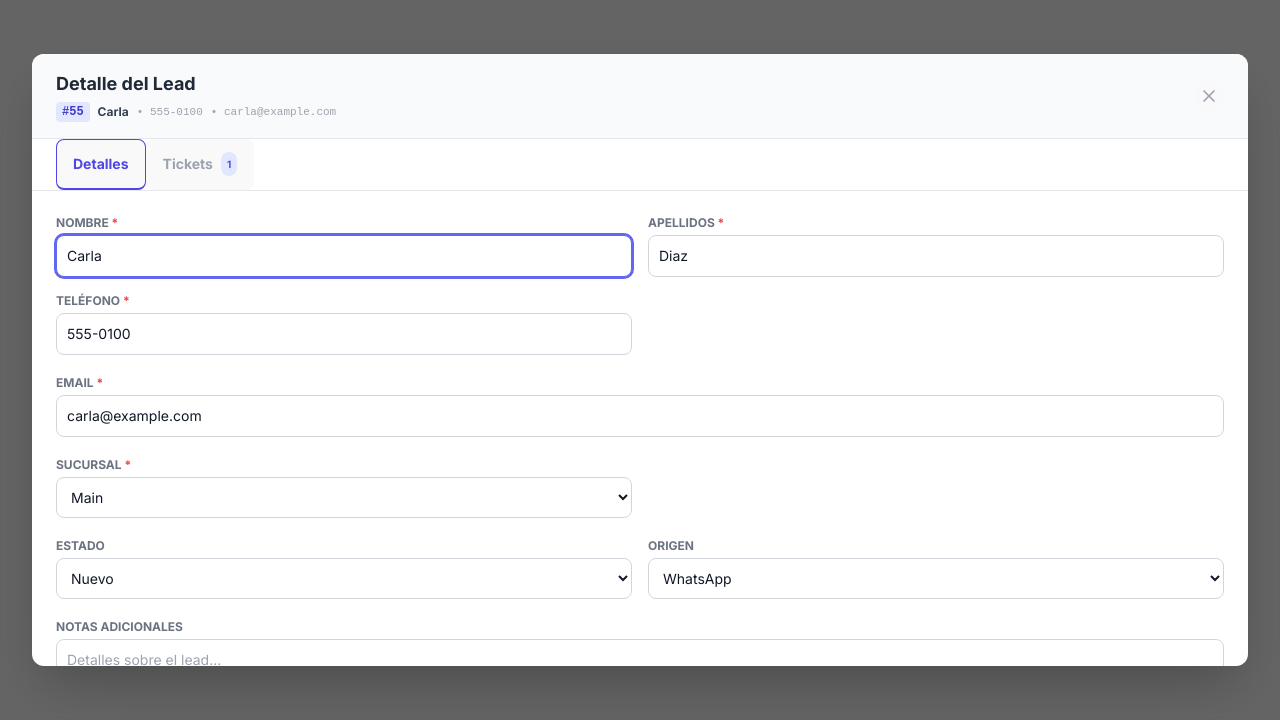
LeadModal — ticket list category display › renders the ticket's own category, sourced from listTickets(), in the lead's ticket list
Click the button "Tickets 1". click: (200, 164)
box: 146,139 -> 254,190
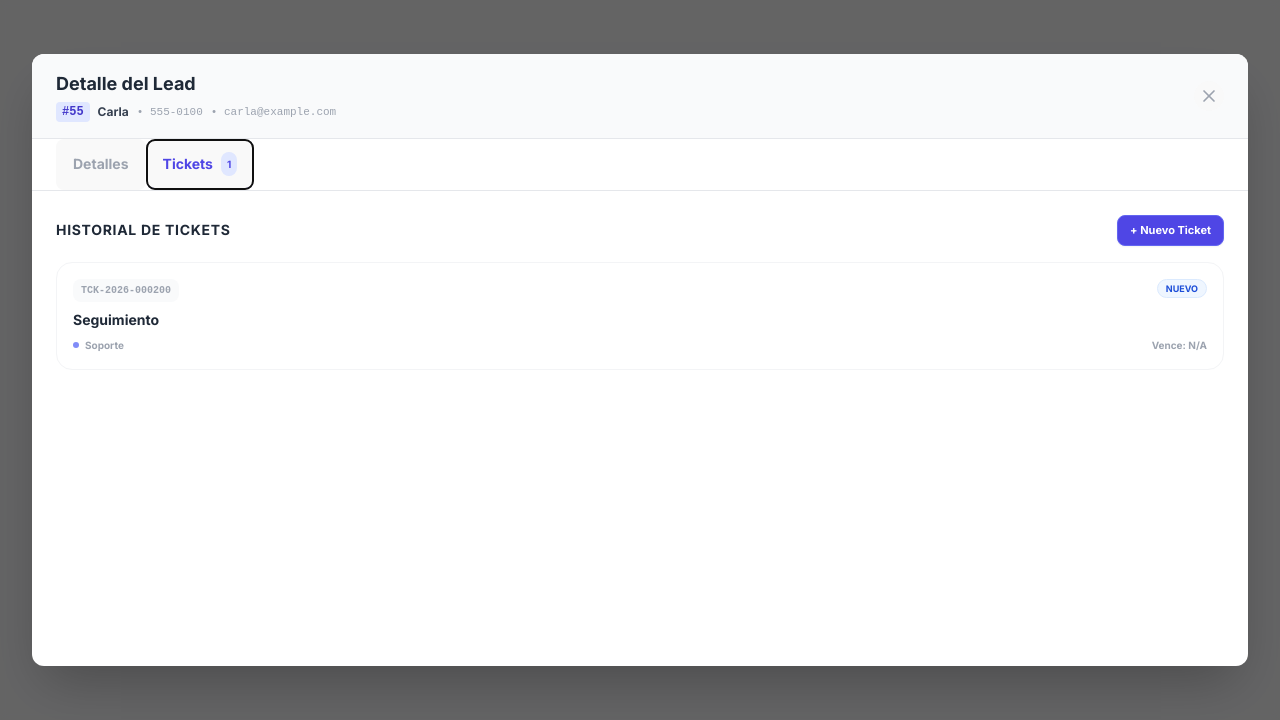
Now the text "TCK-2026-000200" is shown, box 73,278 -> 179,302
Now the text "Soporte" is shown, box 73,338 -> 124,352
